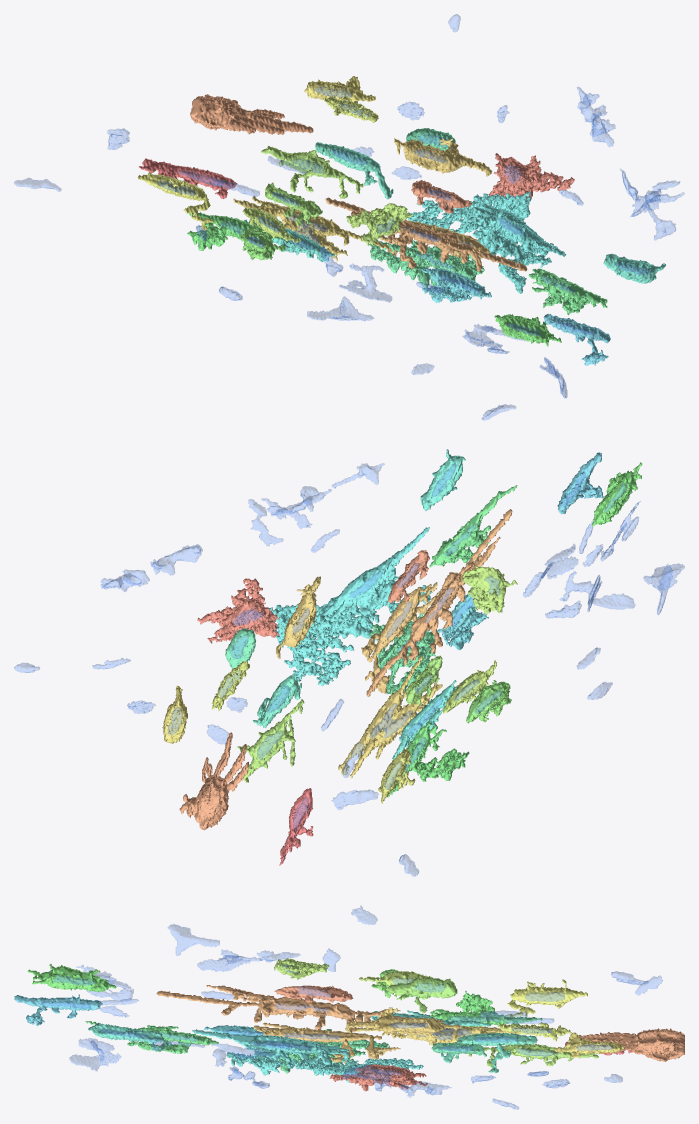
The picture shows the model from 3 angles, top to bottom: view 1: azimuth 30°, elevation 25°; view 2: azimuth 150°, elevation 25°; view 3: azimuth 270°, elevation 25°; orthographic projection. The views are drawn at different scales.
Visible parts, largest first — view 1: osteocyte_63, osteocyte_27, osteocyte_71, osteocyte_29, osteocyte_57, osteocyte_15, osteocyte_101, osteocyte_23, osteocyte_60, osteocyte_35, osteocyte_115, osteocyte_9 (+17 smaller); view 2: osteocyte_63, osteocyte_71, osteocyte_15, osteocyte_27, osteocyte_57, osteocyte_47, osteocyte_13, osteocyte_29, osteocyte_60, osteocyte_23, osteocyte_115, osteocyte_101 (+18 smaller); view 3: osteocyte_63, osteocyte_71, osteocyte_27, osteocyte_47, osteocyte_13, osteocyte_101, osteocyte_57, osteocyte_94, osteocyte_30, osteocyte_60, osteocyte_64, osteocyte_88 (+20 smaller).
Boxes of the visible parts, x1,y1,x2,y2 form: osteocyte_63: (407, 191, 566, 293); osteocyte_27: (190, 94, 313, 134); osteocyte_71: (325, 197, 527, 271); osteocyte_29: (369, 240, 484, 287); osteocyte_57: (489, 153, 574, 199); osteocyte_15: (233, 195, 388, 261); osteocyte_101: (394, 138, 492, 176); osteocyte_23: (261, 146, 363, 198); osteocyte_60: (528, 268, 607, 315); osteocyte_35: (421, 267, 491, 302); osteocyte_115: (346, 203, 413, 246); osteocyte_9: (138, 158, 237, 198); osteocyte_63: (269, 527, 432, 686); osteocyte_71: (366, 509, 512, 696); osteocyte_15: (338, 655, 442, 778); osteocyte_27: (179, 732, 248, 830); osteocyte_57: (197, 578, 279, 643); osteocyte_47: (361, 582, 440, 693); osteocyte_13: (388, 722, 469, 797); osteocyte_29: (369, 613, 435, 694); osteocyte_60: (429, 485, 517, 567); osteocyte_23: (237, 699, 304, 782); osteocyte_115: (462, 566, 517, 614); osteocyte_101: (276, 576, 320, 659); osteocyte_63: (192, 1029, 423, 1082); osteocyte_71: (156, 985, 443, 1031); osteocyte_27: (565, 1028, 684, 1061); osteocyte_47: (254, 1022, 400, 1063); osteocyte_13: (430, 991, 542, 1027); osteocyte_101: (345, 1007, 459, 1036); osteocyte_57: (329, 1064, 427, 1091); osteocyte_94: (27, 964, 116, 991); osteocyte_30: (505, 979, 587, 1017); osteocyte_60: (85, 1021, 218, 1053); osteocyte_64: (386, 976, 457, 1013); osteocyte_88: (14, 994, 102, 1026).
Size of the model in its own units: 144 by 34.87 by 223.
